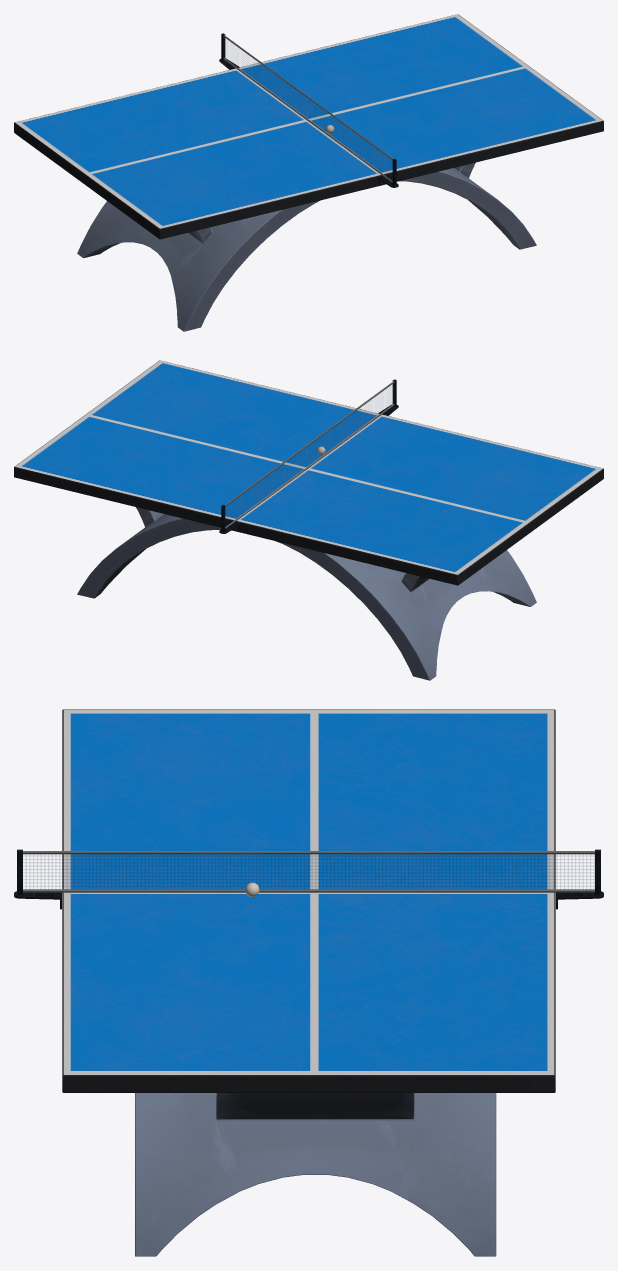
The model's file is mesapingpong.glb.
3 renders of one model, top to bottom at view 1: azimuth 30°, elevation 25°; view 2: azimuth 150°, elevation 25°; view 3: azimuth 270°, elevation 25°, orthographic. The views are drawn at different scales.
Visible parts, largest first — view 1: ping pong_ping pong_0; view 2: ping pong_ping pong_0; view 3: ping pong_ping pong_0, ping pong_pong red ALFA_0.
Part boxes in pixels (<box>): ping pong_ping pong_0: <box>14,14,603,331</box>; ping pong_ping pong_0: <box>14,360,603,680</box>; ping pong_ping pong_0: <box>14,709,603,1256</box>; ping pong_pong red ALFA_0: <box>23,855,594,888</box>.
Size of the model in its own units: 2.72 by 0.903 by 1.85.
Materials: 2 (2 with a texture image).
